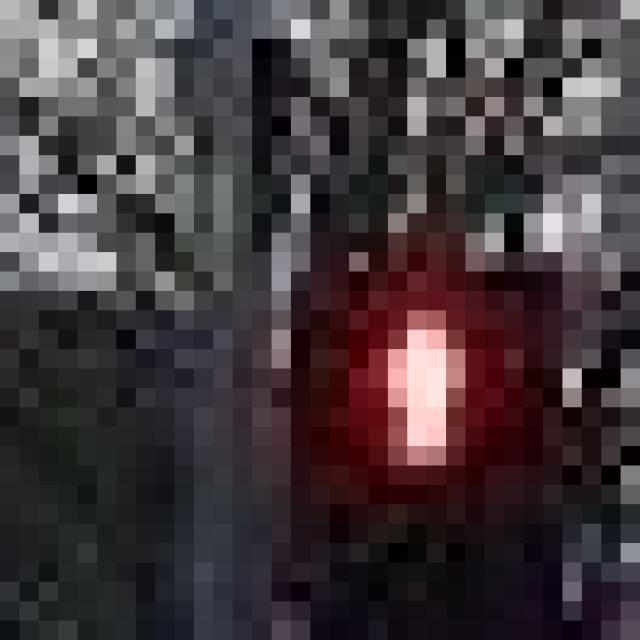red-crossing: (330, 252, 504, 485)
